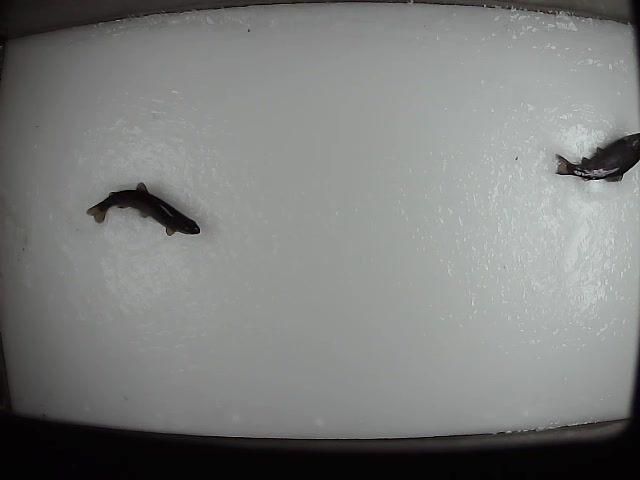Fish: (88, 183, 200, 236)
